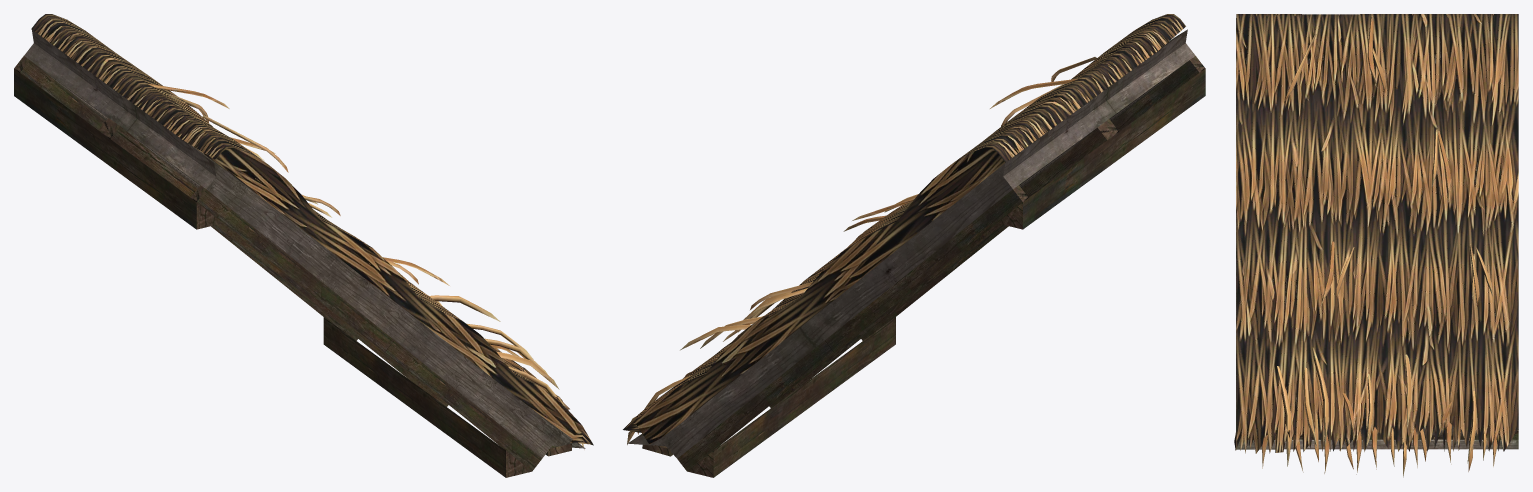
3 renders of one model, left to right at view 1: azimuth 30°, elevation 25°; view 2: azimuth 150°, elevation 25°; view 3: azimuth 270°, elevation 25°, orthographic. The views are drawn at different scales.
Visible parts, largest first — view 1: SM_BB_T1_Extended_Roof_Large_LOD0; view 2: SM_BB_T1_Extended_Roof_Large_LOD0; view 3: SM_BB_T1_Extended_Roof_Large_LOD0.
Part boxes in pixels (x1=…): SM_BB_T1_Extended_Roof_Large_LOD0: x1=14, y1=14, x2=593, y2=477; SM_BB_T1_Extended_Roof_Large_LOD0: x1=623, y1=14, x2=1205, y2=477; SM_BB_T1_Extended_Roof_Large_LOD0: x1=1234, y1=14, x2=1518, y2=477.
Size of the model in its own units: 4.04 by 3.75 by 3.02.
Materials: 3 (3 with a texture image).
